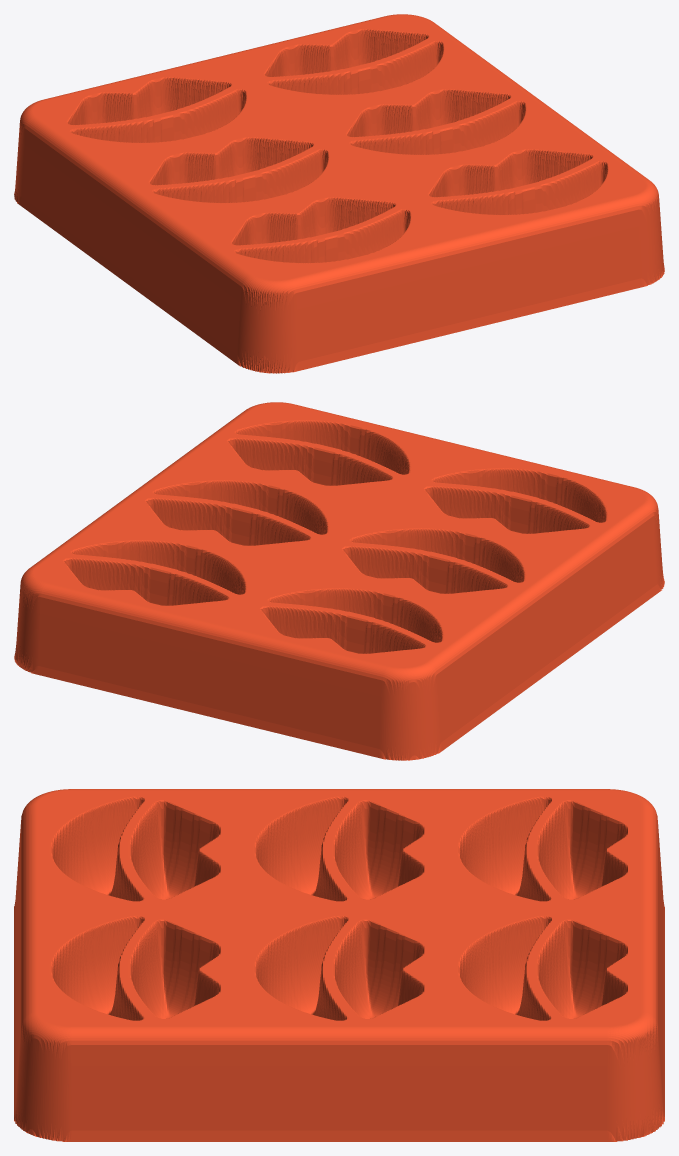
File: mold.glb
3 renders of one model, top to bottom at view 1: azimuth 30°, elevation 25°; view 2: azimuth 150°, elevation 25°; view 3: azimuth 270°, elevation 25°, orthographic. The views are drawn at different scales.
Visible parts, largest first — view 1: geometry_0; view 2: geometry_0; view 3: geometry_0.
Boxes of the visible parts, left/top/right/bottom form: geometry_0: left=14, top=14, right=664, bottom=373; geometry_0: left=14, top=402, right=664, bottom=760; geometry_0: left=14, top=789, right=664, bottom=1141.
Bounding box in the file's own units: 0.0947 × 0.0182 × 0.1019.
